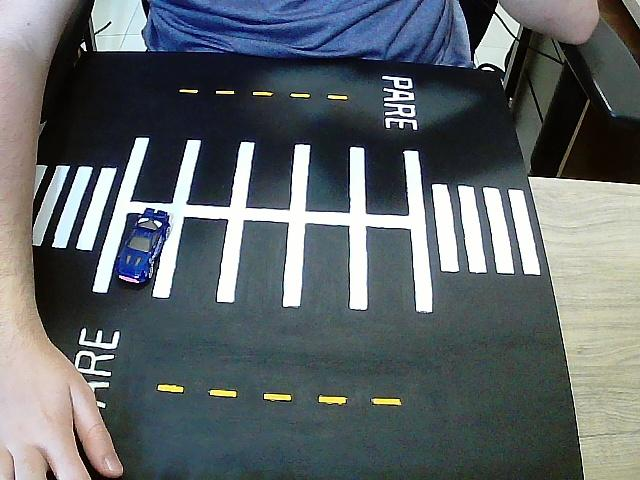Carro: (115, 208, 170, 291)
